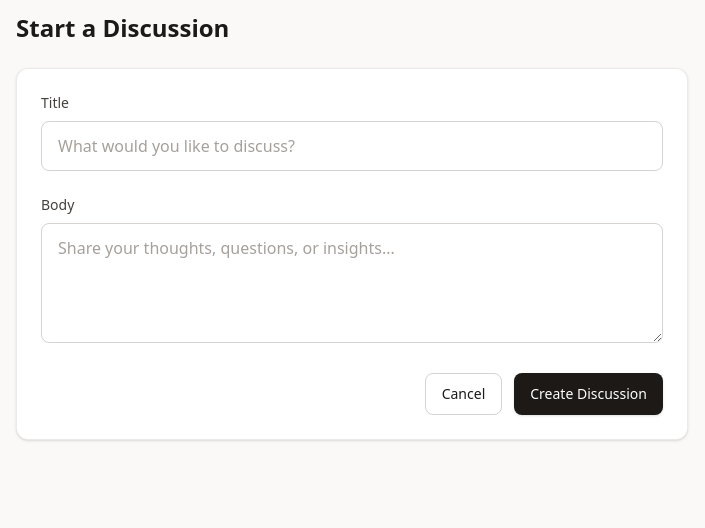
Test: NewDiscussionPage › shows error when user is not logged in
The width and height of the screenshot is (705, 528).
Type "Test" into the field with placeholder "What would you like to discuss?" at (352, 146), box [41,121,663,171]
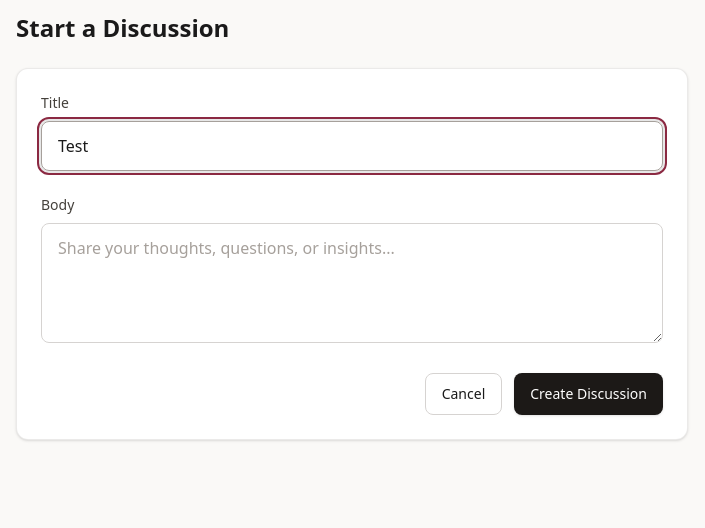
Type "Test body" into the text box with placeholder "Share your thoughts, questions, or insights..." at (352, 283), box [41,223,663,343]
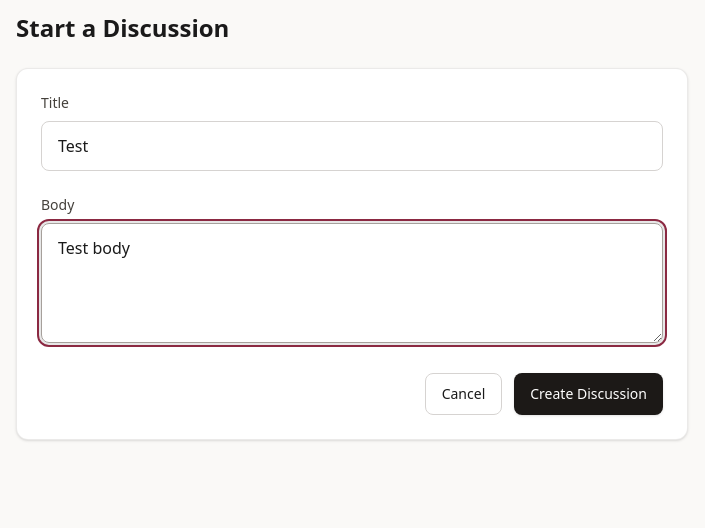
Click the button "Create Discussion" at (589, 394), box [514,373,663,415]
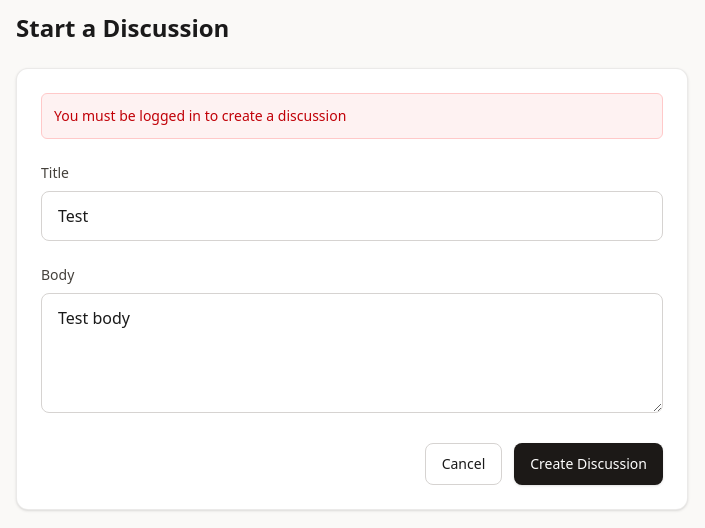
Check: the text "You must be logged in to create a discussion" is shown, box [41,93,663,139]
